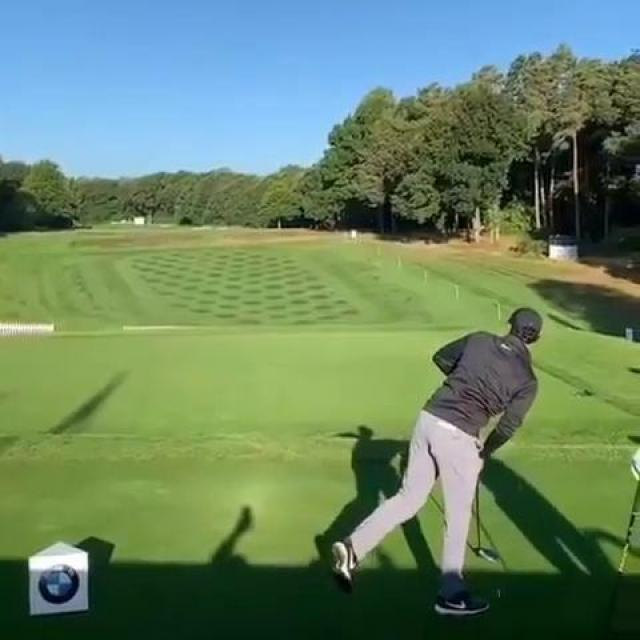ClubHandle: (468, 474, 503, 565)
ClubHead: (474, 543, 501, 561)
